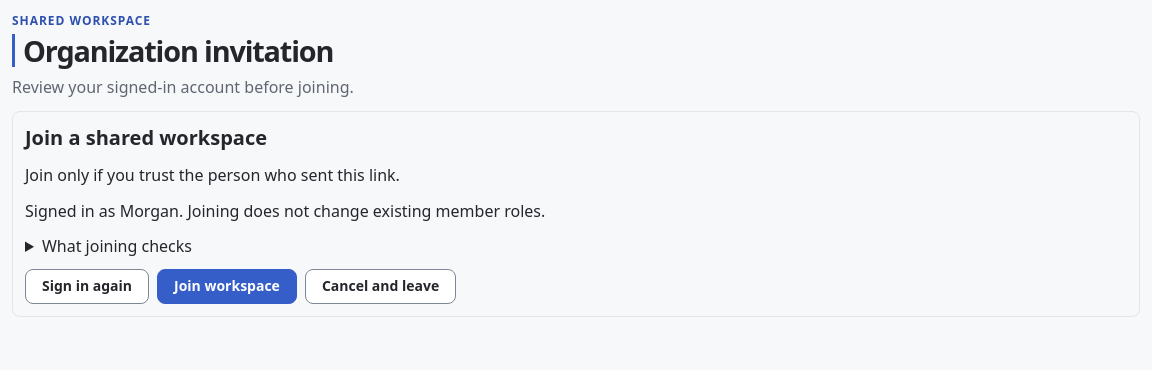
Scenario: RAM-only explicit invitation acceptance › retains the accepted receipt when directory refresh fails; retry does not consume the invitation again
The image size is (1152, 370).
Expected: the text "Signed in as Morgan" is shown, [25,200,545,222]
Click the button "Join workspace": (227, 286) [157,269,297,304]
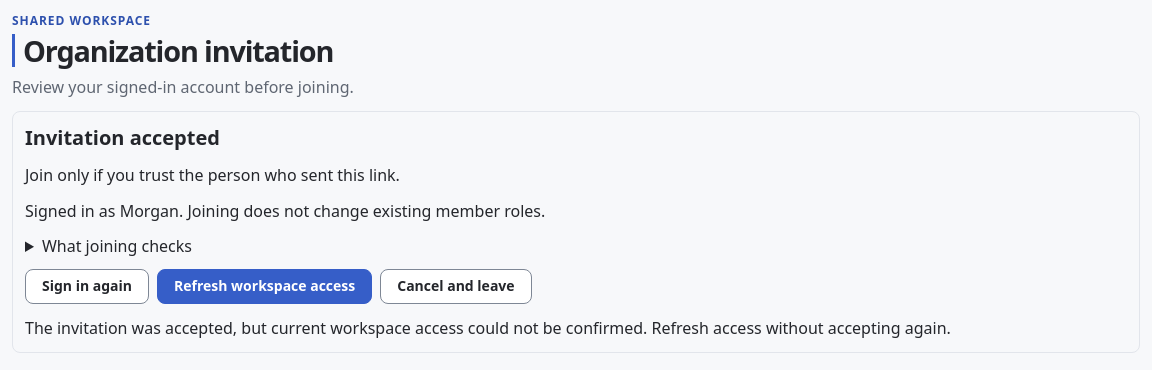
Expected: the link "Open shared projects" is not shown
Expected: the message shows "The invitation was accepted", [25,317,951,339]
Click the button "Refresh workspace access": (265, 286) [157,269,372,304]
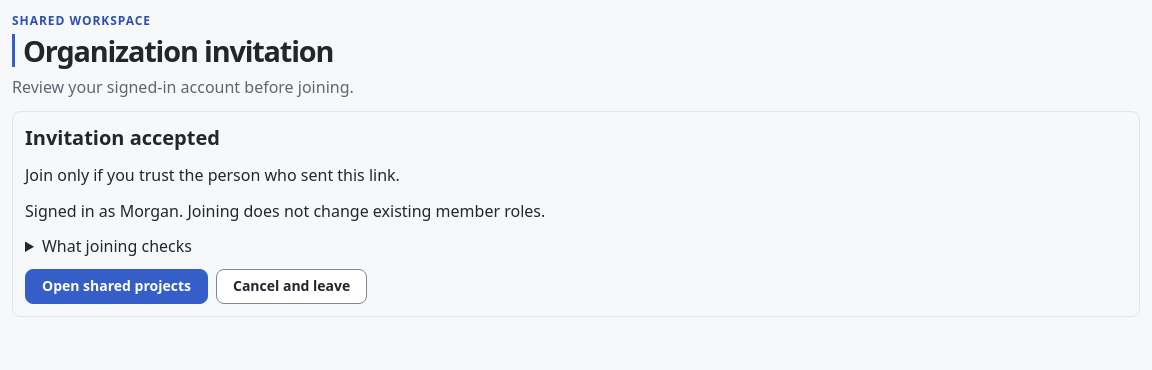
Expected: the link "Open shared projects" is shown, [25,269,208,304]
